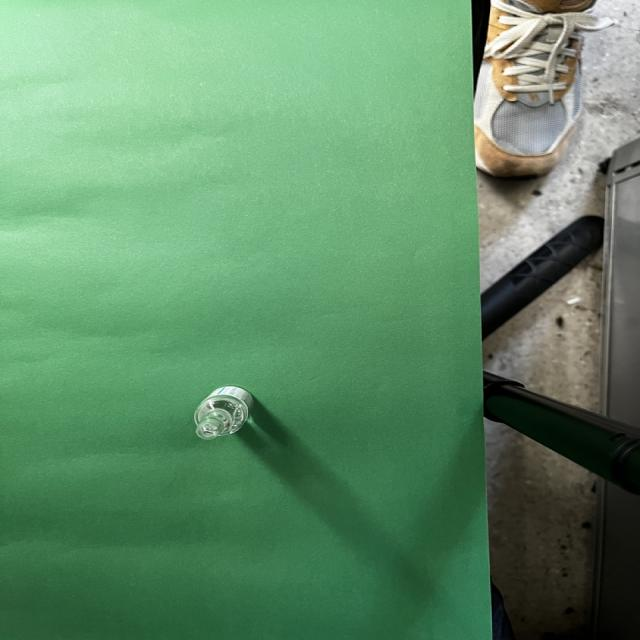Ampoules: (195, 386, 254, 439)
